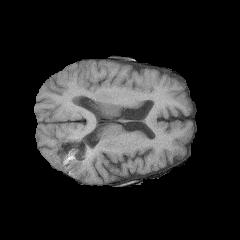glioma: (49, 134, 92, 178)
